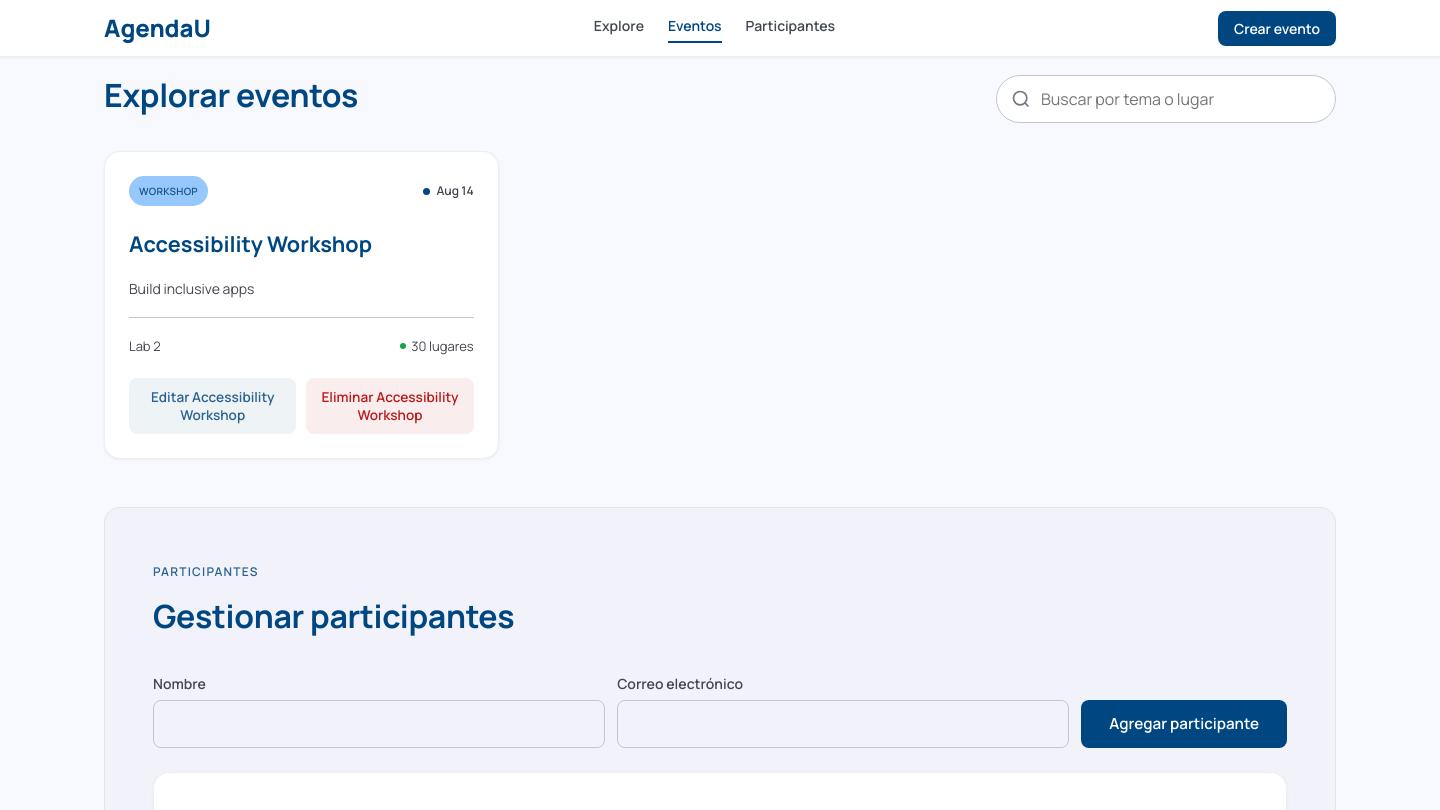
App › deletes an event after explicit confirmation
This screenshot has width=1440, height=810.
(page scrolled)
Click the button "Eliminar Accessibility Workshop" at (390, 406), box [306,378,474,434]
(page scrolled)
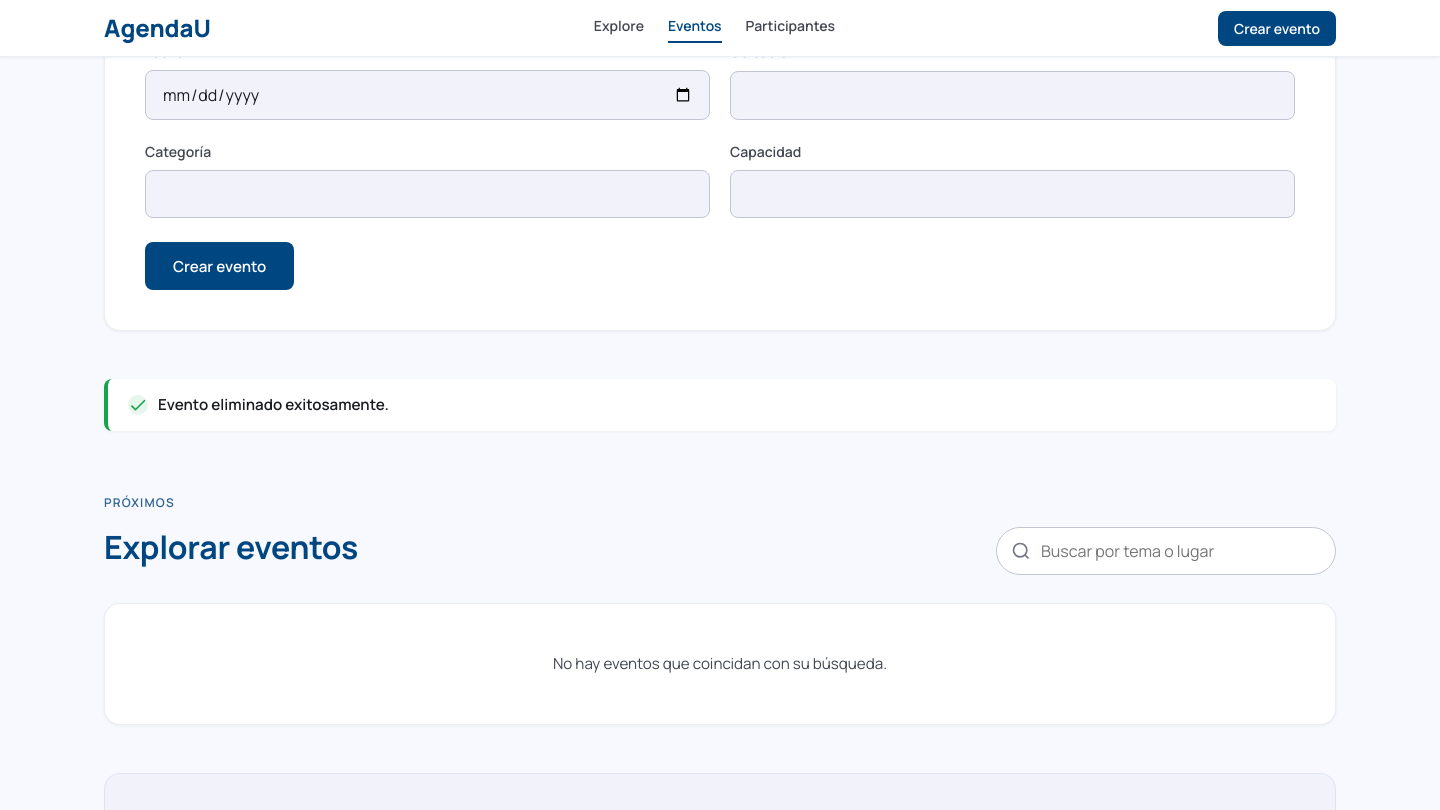
Expected: the text "Evento eliminado exitosamente." is shown, [104,379,1336,431]
Expected: the heading "Accessibility Workshop" is gone
